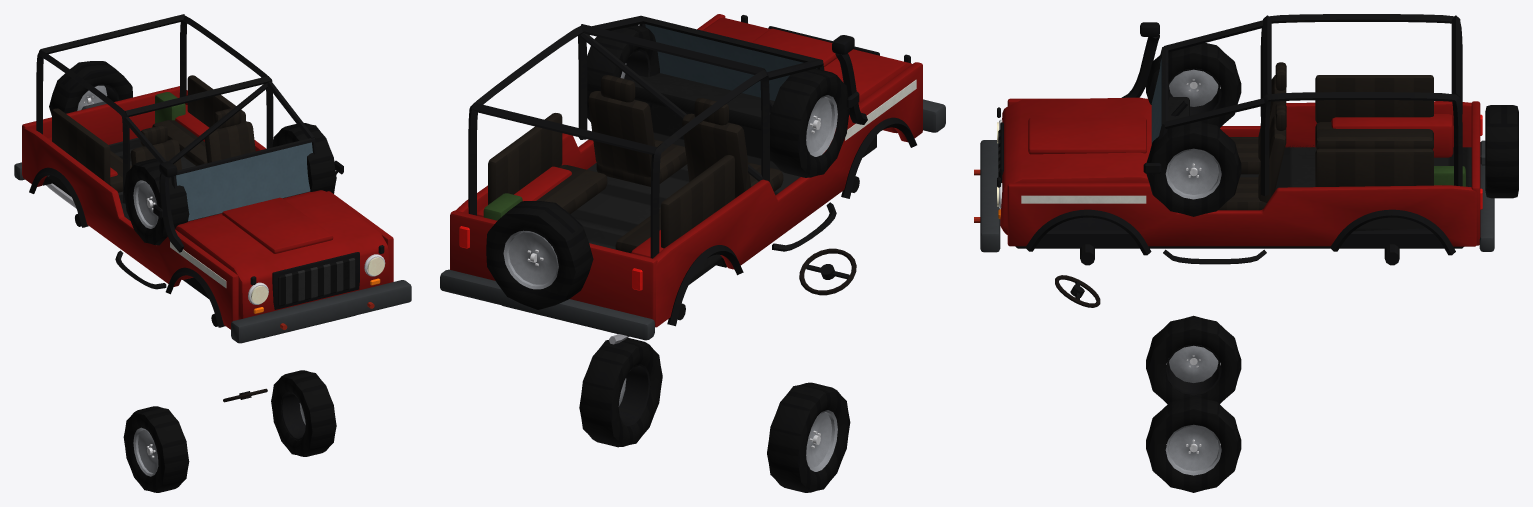
File: ShereJeep.fbx
3 views of the same model, side by side, from view 1: azimuth 30°, elevation 25°; view 2: azimuth 150°, elevation 25°; view 3: azimuth 270°, elevation 25° (orthographic). The views are drawn at different scales.
Visible parts, largest first — view 1: Body_LOD0, Wheel_FL_Mesh_LOD0, Wheel_FR_Mesh_LOD0, Wheel_RR_Mesh_LOD0, Wheel_RL_Mesh_LOD0; view 2: Body_LOD0, Wheel_FR_Mesh_LOD0, Wheel_FL_Mesh_LOD0, Wheel_RR_Mesh_LOD0, Wheel_RL_Mesh_LOD0, Steering_Pivot_Mesh_LOD0; view 3: Body_LOD0, Wheel_FL_Mesh_LOD0, Wheel_RL_Mesh_LOD0, Wheel_FR_Mesh_LOD0, Wheel_RR_Mesh_LOD0, Steering_Pivot_Mesh_LOD0.
Boxes of the visible parts, x1,y1,x2,y2 form: Body_LOD0: [14, 14, 411, 343]; Wheel_FL_Mesh_LOD0: [271, 370, 336, 456]; Wheel_FR_Mesh_LOD0: [123, 406, 189, 492]; Wheel_RR_Mesh_LOD0: [123, 158, 189, 245]; Wheel_RL_Mesh_LOD0: [272, 123, 336, 193]; Body_LOD0: [440, 14, 945, 344]; Wheel_FR_Mesh_LOD0: [767, 382, 850, 492]; Wheel_FL_Mesh_LOD0: [579, 338, 662, 447]; Wheel_RR_Mesh_LOD0: [770, 68, 849, 177]; Wheel_RL_Mesh_LOD0: [587, 25, 659, 121]; Steering_Pivot_Mesh_LOD0: [799, 248, 856, 295]; Body_LOD0: [974, 14, 1518, 265]; Wheel_FL_Mesh_LOD0: [1146, 396, 1241, 492]; Wheel_RL_Mesh_LOD0: [1146, 121, 1241, 216]; Wheel_FR_Mesh_LOD0: [1146, 315, 1241, 404]; Wheel_RR_Mesh_LOD0: [1146, 43, 1241, 127]; Steering_Pivot_Mesh_LOD0: [1055, 275, 1100, 307].
Size of what is drawn, in the model's own units: 1.9 by 3.49 by 4.36.
